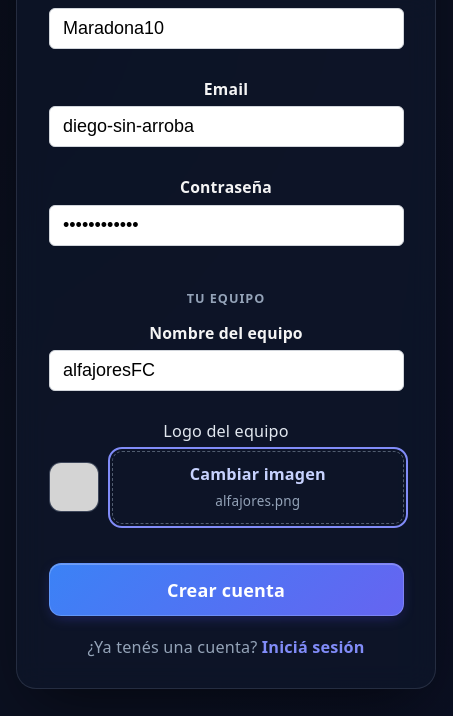
Test: RegisterPage › Validaciones del frontend › Con un email inválido muestra el error y no llama al backend
Earlier steps of the test are not shown.
(page scrolled)
Click the button "Crear cuenta": (226, 590) [48, 563, 404, 616]
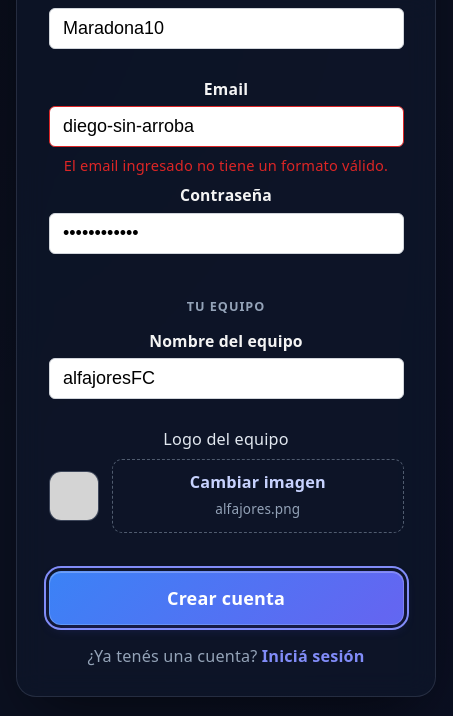
Expected: the text "El email ingresado no tiene un formato válido." is shown, [48, 152, 404, 178]
